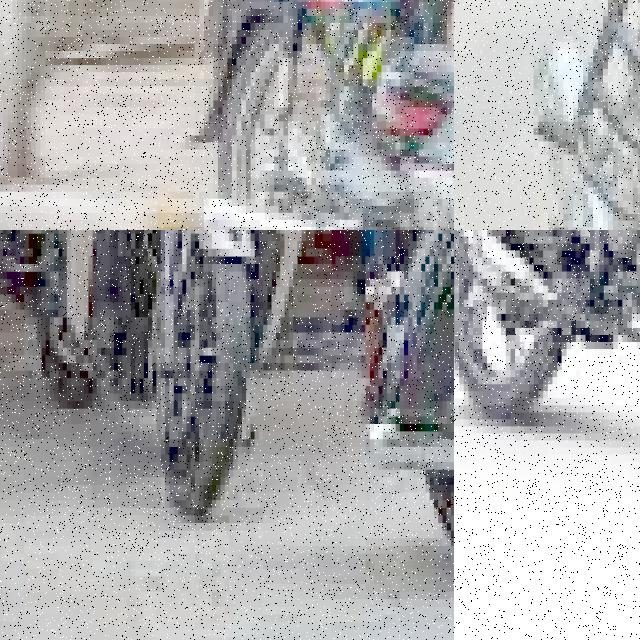bike: (11, 230, 314, 530), (454, 230, 640, 581), (194, 0, 454, 230), (331, 230, 454, 576), (528, 0, 640, 230)
